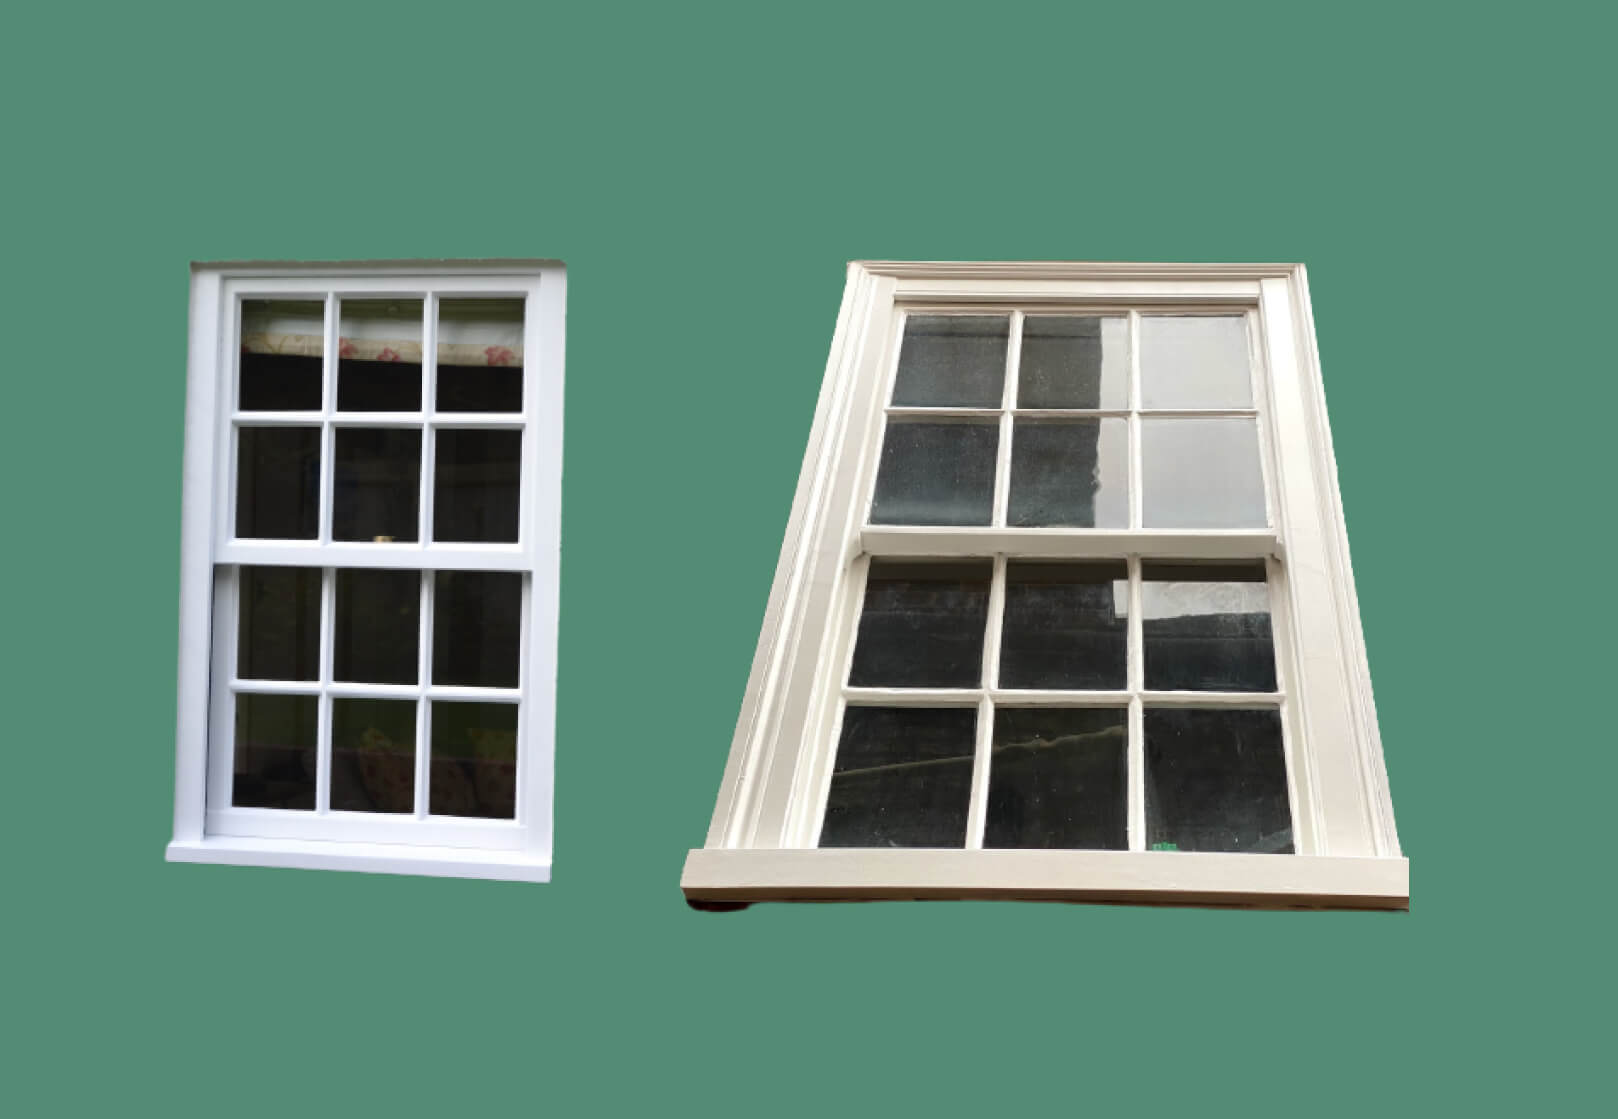Window: (679, 257, 1411, 914), (189, 259, 552, 878)
